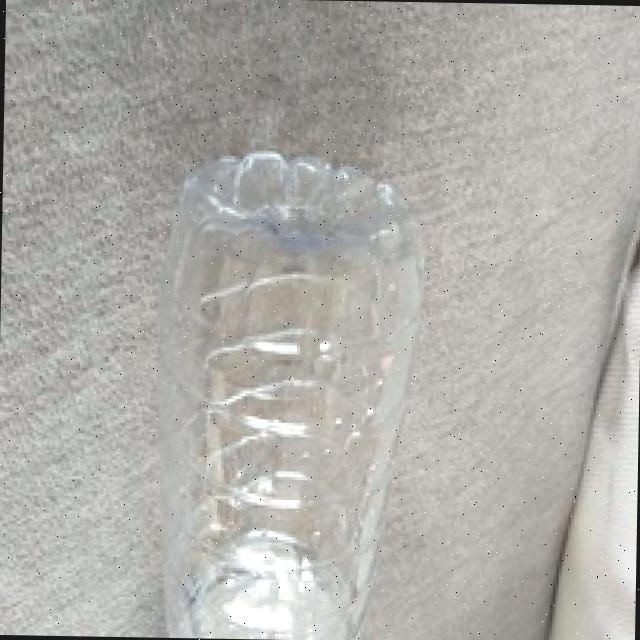bottle: (115, 113, 496, 640)
